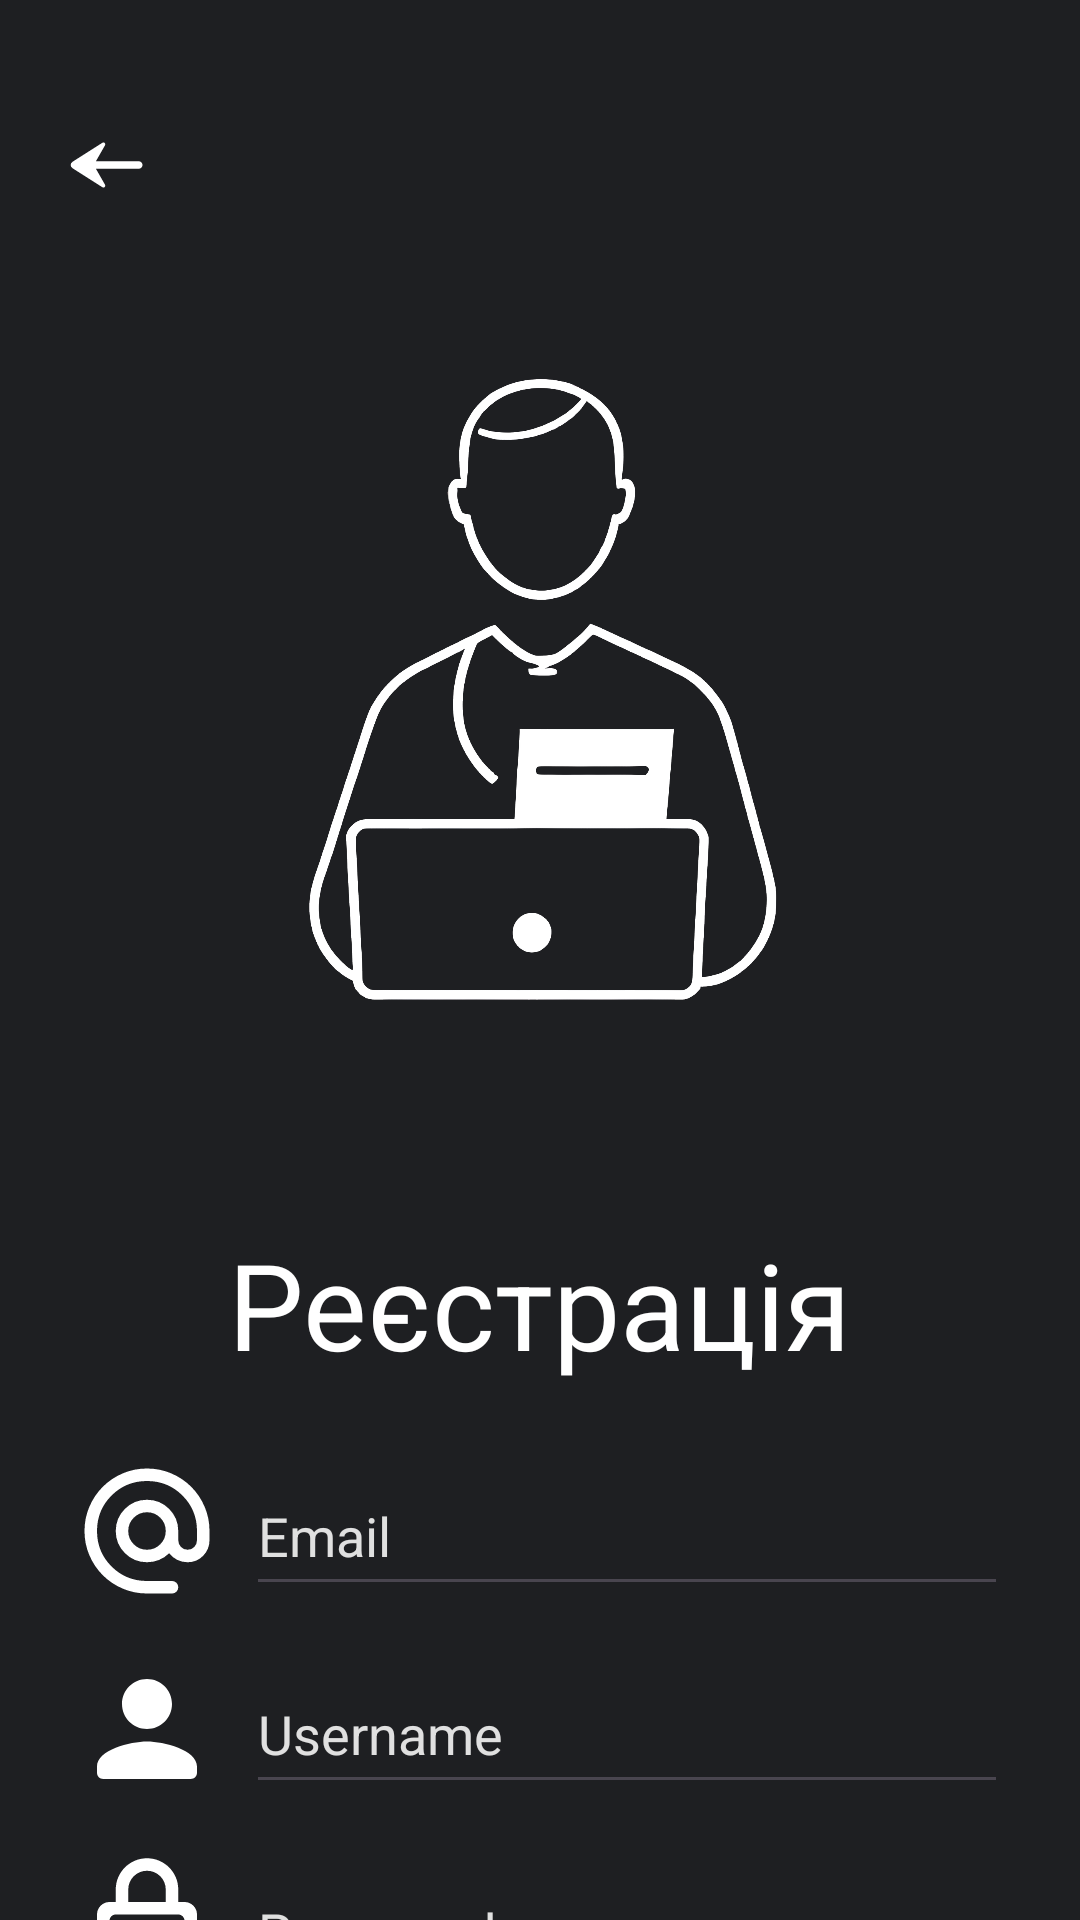

Point at icon controls on the screen. Image size 1080px x 1920px, points as (x,y).
back arrow: (106,165)
person: (147,1729)
